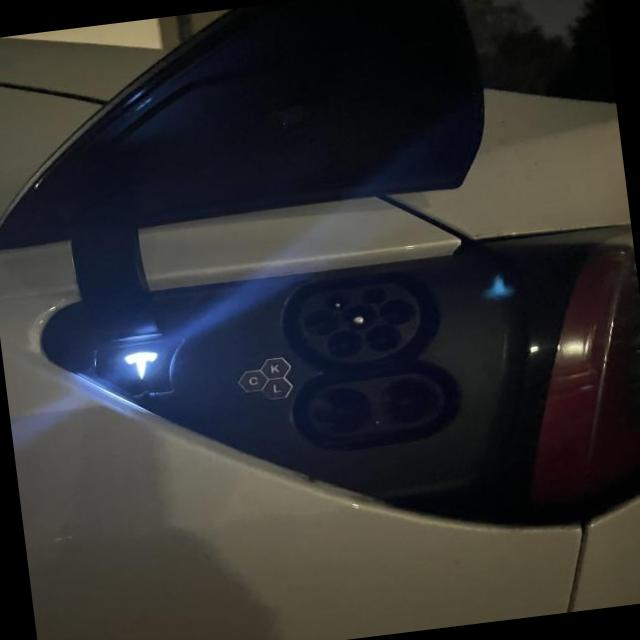inlet: (299, 282, 420, 362)
inlet-above-left: (325, 293, 350, 309)
inlet-above-right: (362, 287, 387, 303)
inlet-below-left: (328, 331, 362, 356)
inlet-below-right: (366, 324, 398, 351)
inlet-center: (340, 304, 375, 330)
inlet-center-left: (303, 309, 338, 335)
inlet-center-right: (379, 299, 414, 323)
